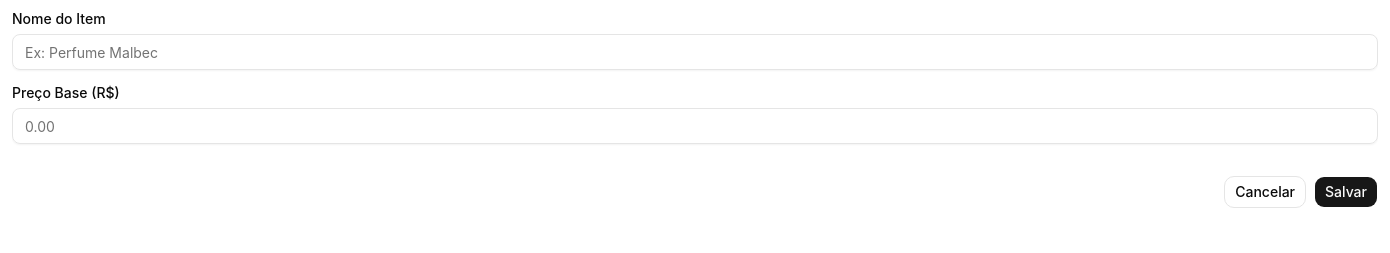
ItemForm › should validate negative price
Type "Produto Teste" into the field labelled "Nome do Item".
click(695, 52); type("Produto Teste")  # box x1=12 y1=34 x2=1378 y2=70
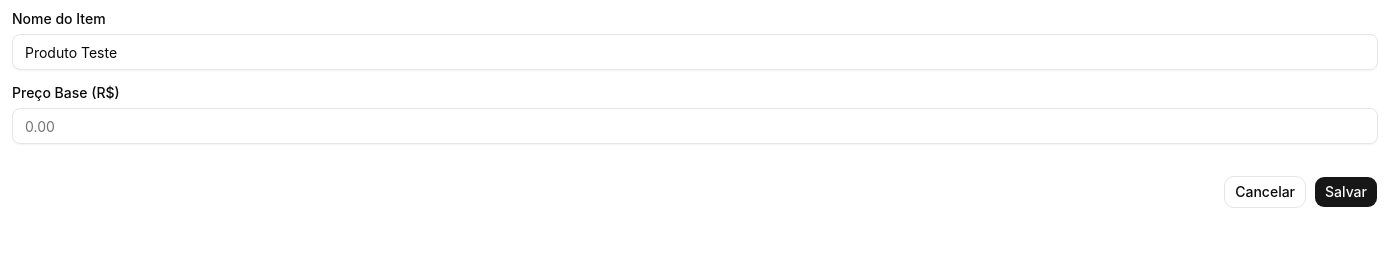
Type "-10" into the number field labelled "Preço Base (R$)".
click(695, 126); type("-10")  # box x1=12 y1=108 x2=1378 y2=144
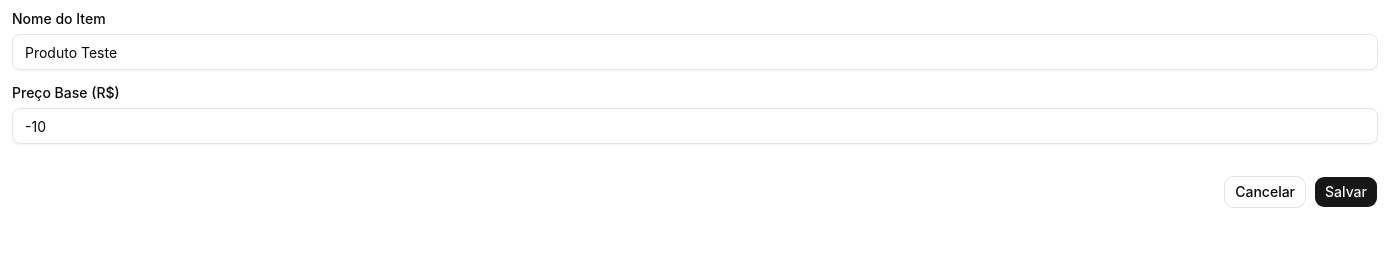
Submit the form from the button "Salvar", box x1=1314 y1=176 x2=1378 y2=208
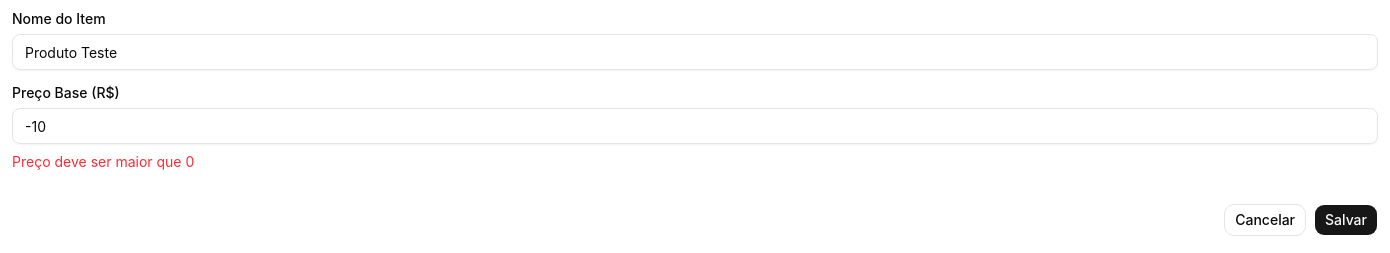
Result: the text "Preço deve ser maior que 0" is shown at x1=12 y1=153 x2=194 y2=170
